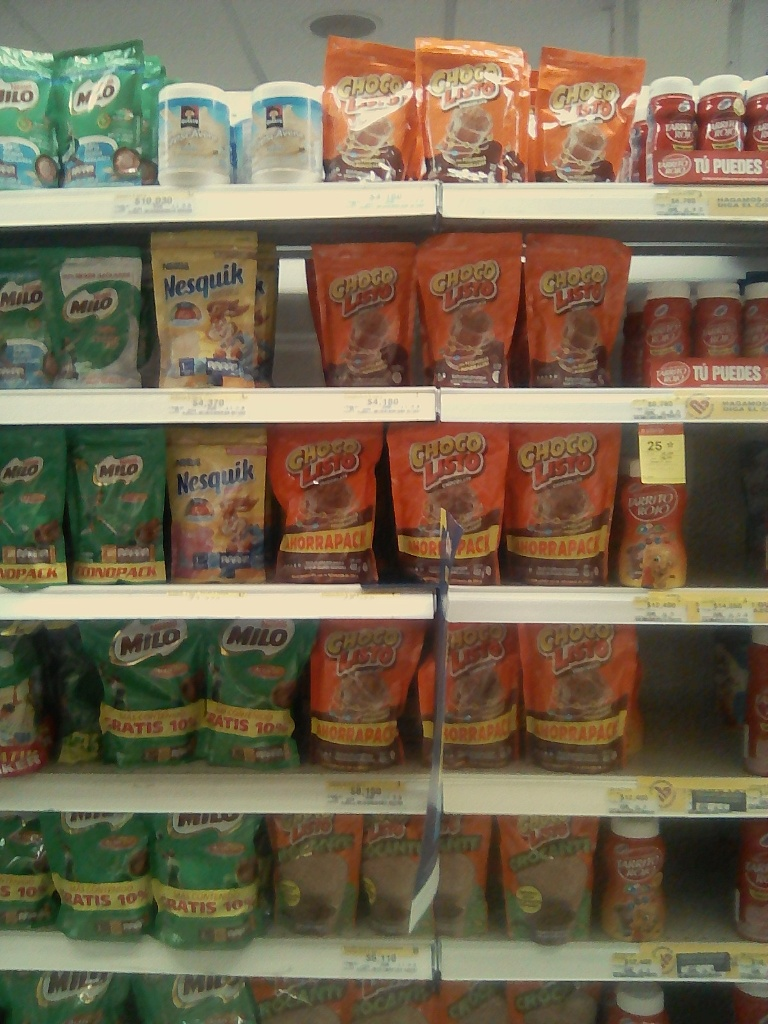COL0170102DYP25000: (494, 813, 600, 942)
COL0170103DYP20000: (533, 37, 643, 179)
COL0170103DYP40000: (503, 421, 621, 584)
COL0170203DYP25000: (64, 425, 172, 580)
COL0170205DYP20000: (50, 43, 151, 187)
COL0170305DYP20000: (162, 425, 269, 586)
COL0170306DYP20000: (149, 231, 273, 389)
